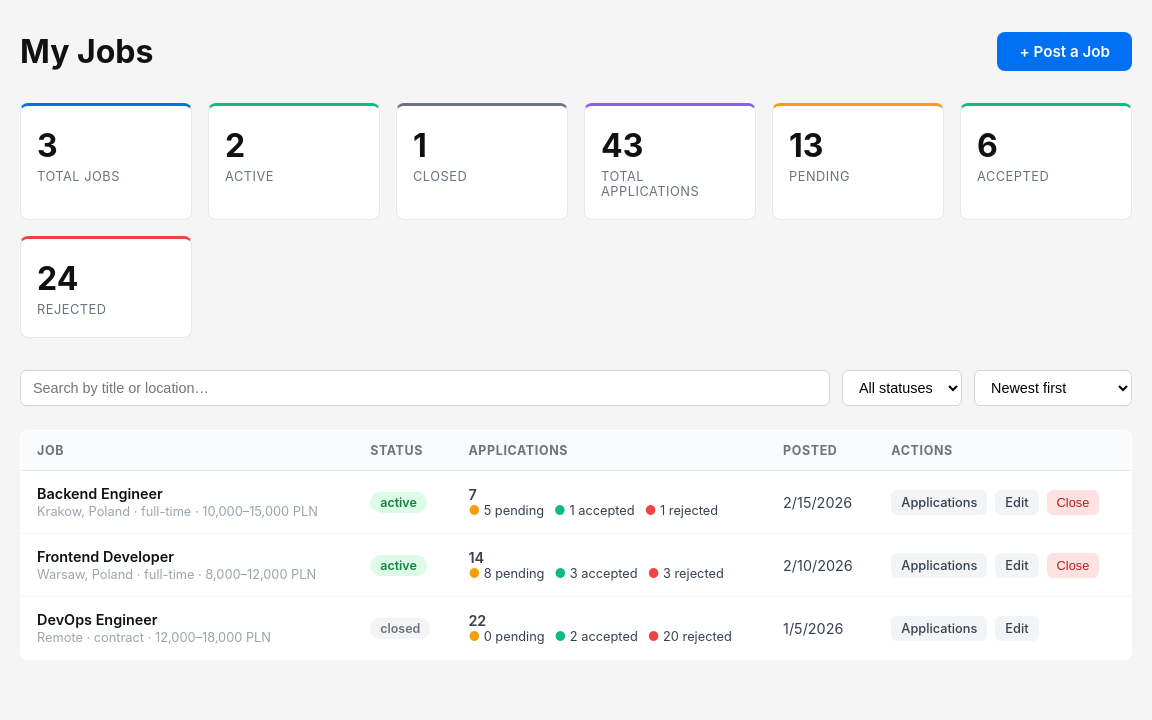
Test: MyJobsPage › shows empty state when no results match search
This screenshot has width=1152, height=720.
Type "zzznomatch" into the field with placeholder "Search by title or location…" at (425, 388), box [20,370,830,406]
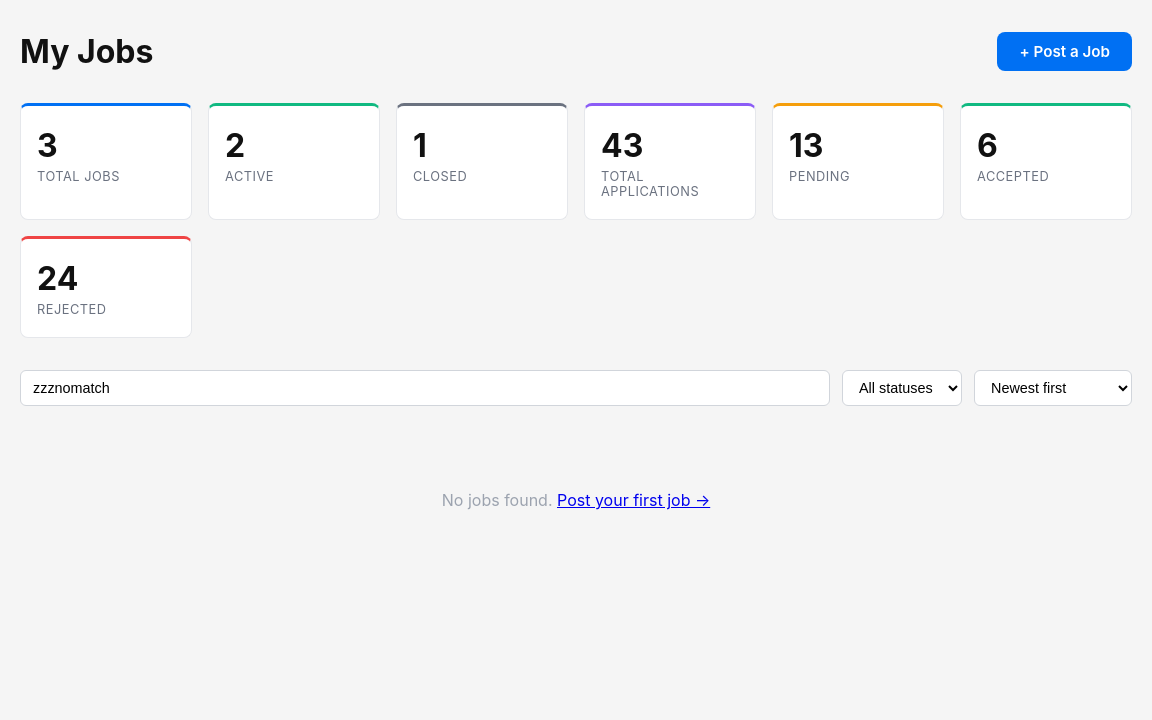
Expected: the text "No jobs found. Post your first job →" is shown, [442,490,710,510]
